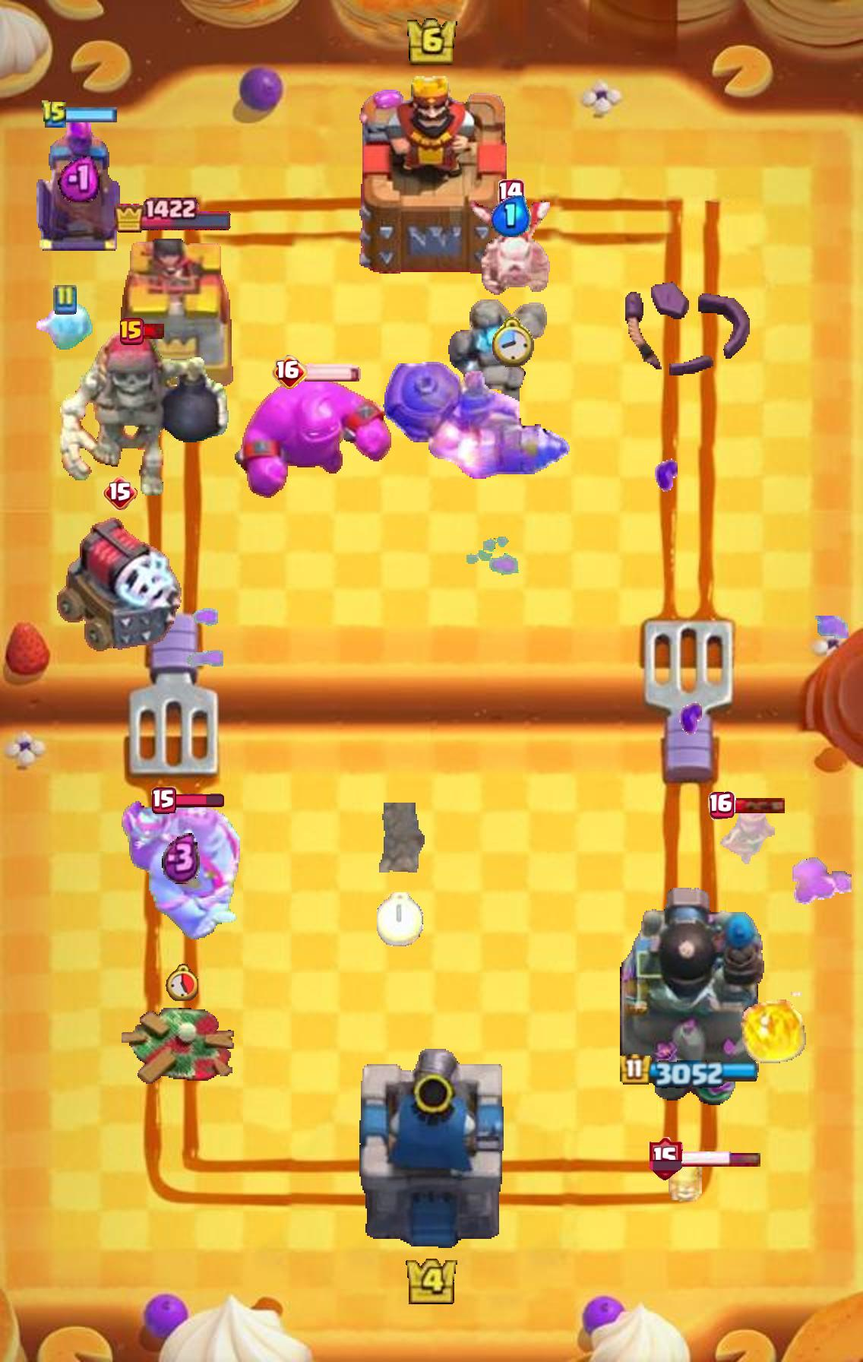bar: (679, 1151, 761, 1167), (304, 363, 362, 382), (732, 797, 786, 814), (172, 794, 224, 808), (141, 323, 166, 340)
bar-level: (648, 1137, 683, 1181), (272, 355, 308, 390), (103, 476, 138, 511), (498, 178, 526, 208), (708, 791, 736, 820), (152, 787, 177, 814), (120, 317, 144, 345)
